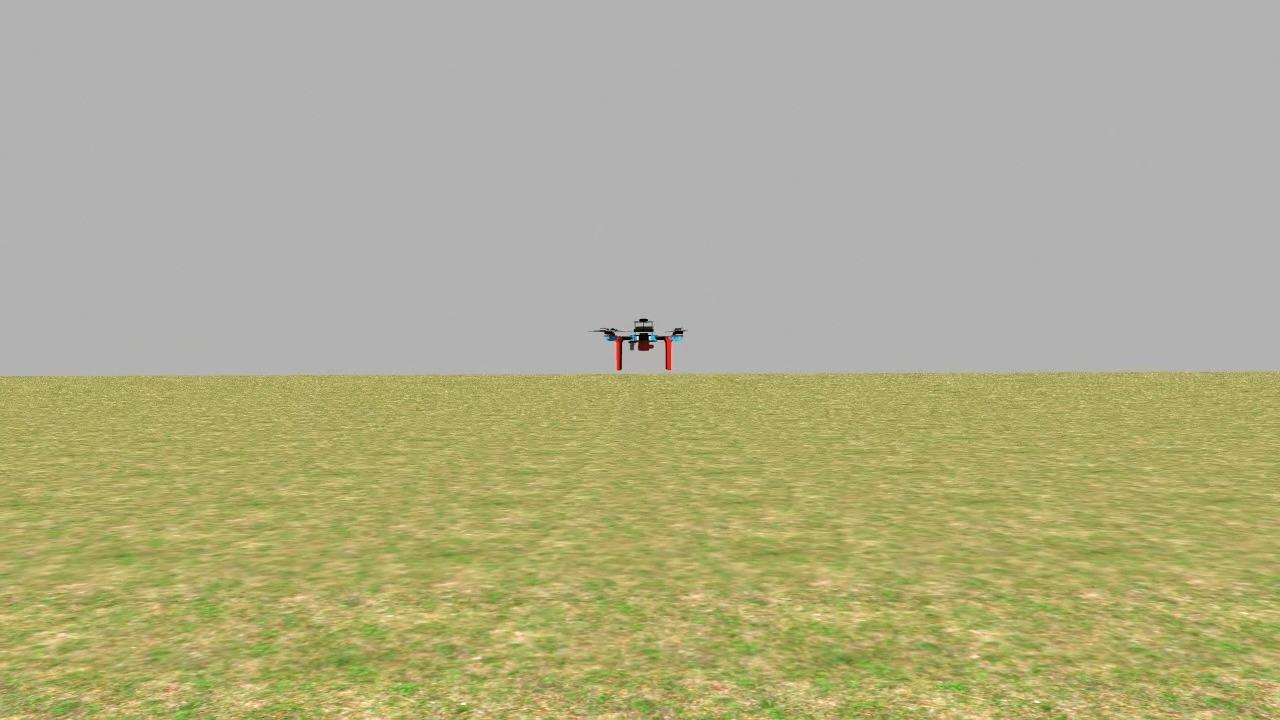UAV: (580, 303, 712, 378)
